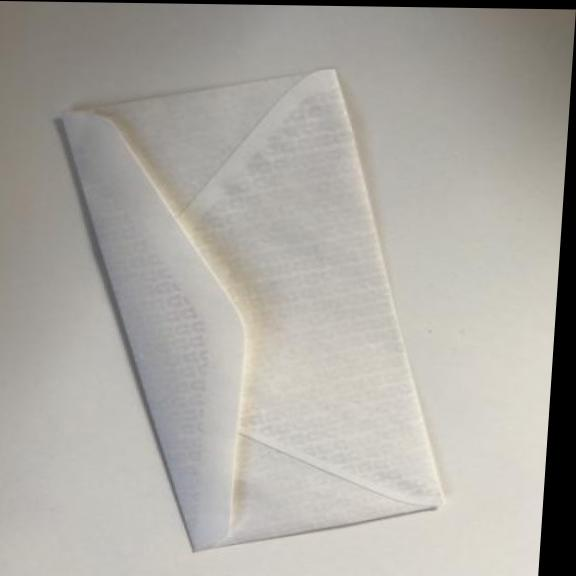Kertas: (15, 60, 482, 562)
